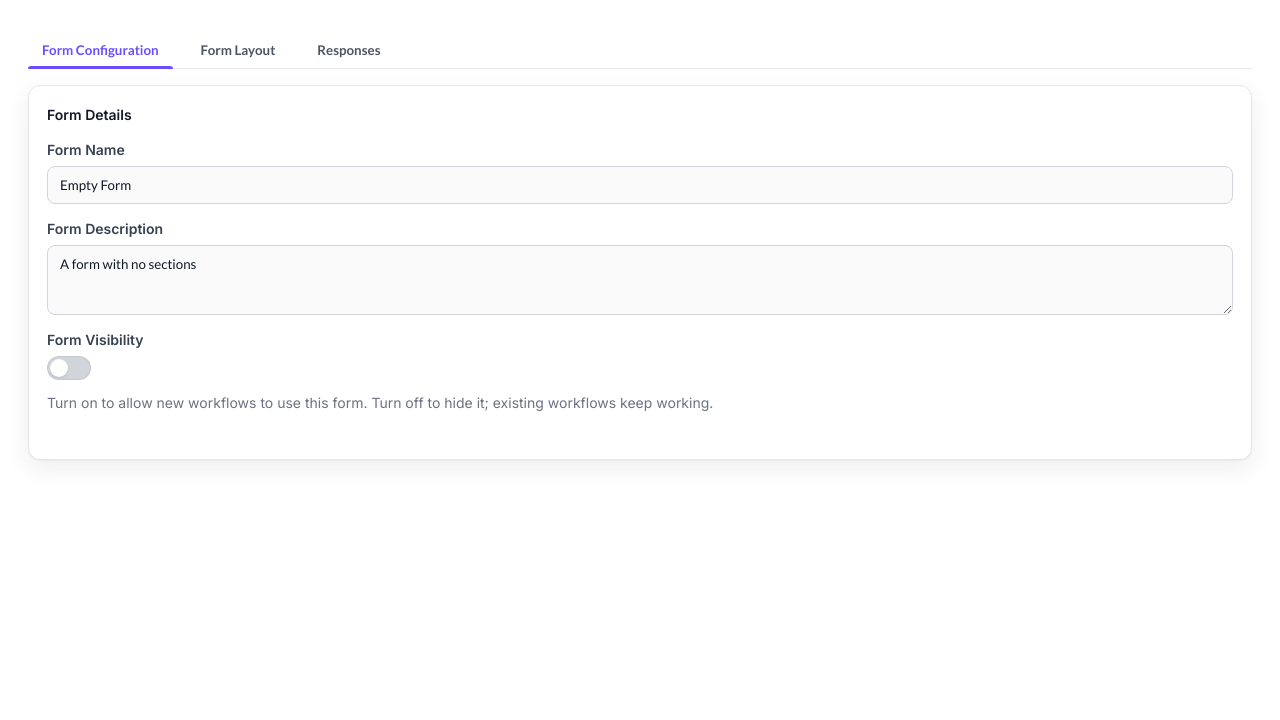
Test: ViewForm page › renders empty layout when form has no sections
This screenshot has width=1280, height=720.
Expected: the text "Form Details" is shown, [47,106,132,123]
Note: Switch to layout
Click the tab "Form Layout" at x=238, y=50, box [187,32,289,68]
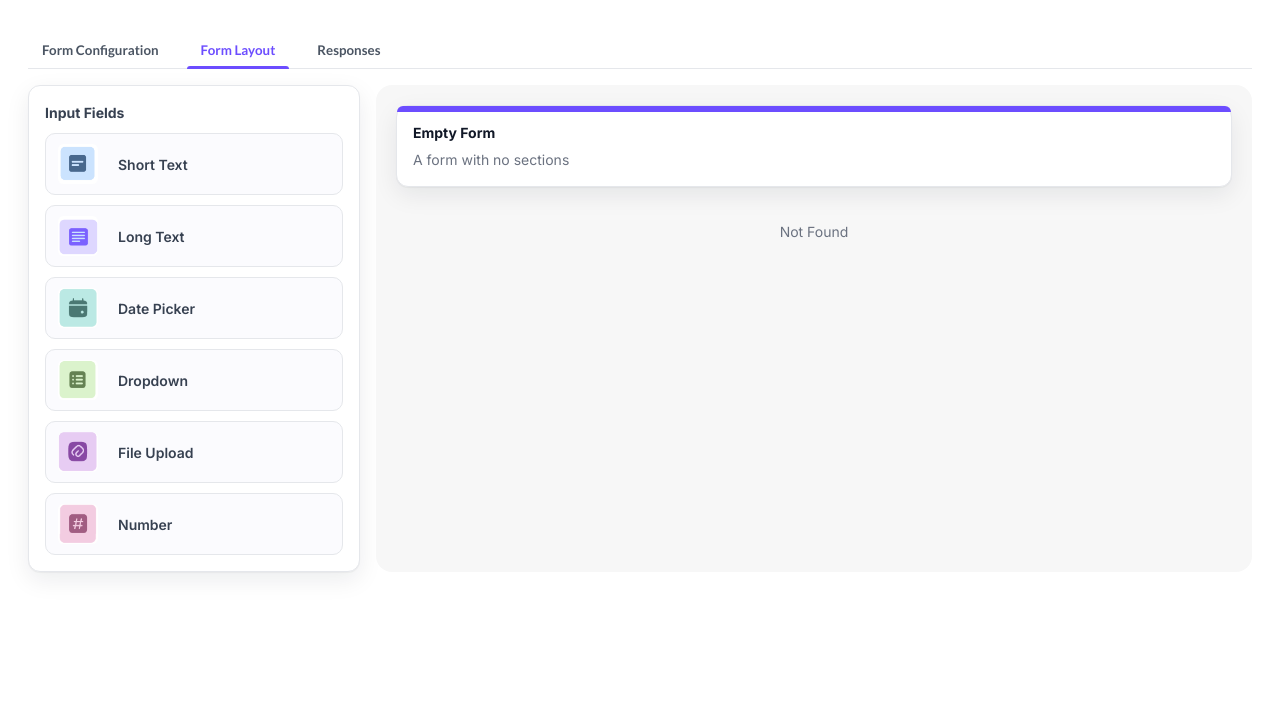
Expected: the text "Empty Form" is shown, [413,124,495,141]
Expected: the text "Not Found" is shown, [780,223,848,240]
